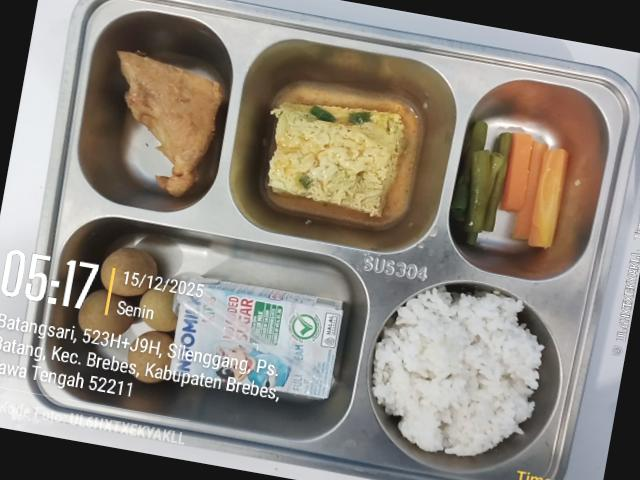ayam: (269, 103, 403, 217)
buah: (79, 247, 176, 383)
nasi: (373, 288, 543, 456)
sayur: (462, 122, 568, 249)
susu: (172, 278, 343, 399)
tahu: (118, 51, 222, 196)
